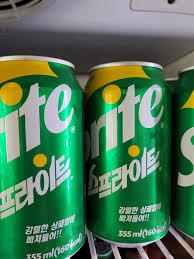sprite: (83, 56, 178, 250), (0, 58, 83, 258)
